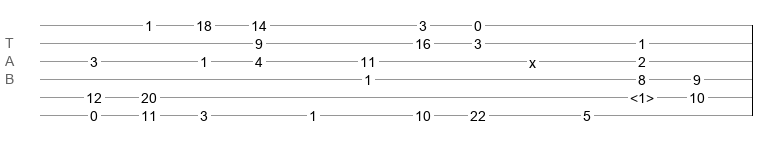0: (90, 108, 98, 118), (474, 18, 482, 28)
1: (145, 18, 153, 28), (200, 54, 208, 64), (309, 108, 317, 118), (364, 72, 372, 82), (638, 36, 646, 46)
10: (415, 108, 431, 118), (689, 90, 705, 100)
11: (141, 108, 157, 118), (360, 54, 376, 64)
12: (86, 90, 102, 100)
14: (251, 18, 267, 28)
16: (415, 36, 431, 46)
18: (196, 18, 212, 28)
2: (638, 54, 646, 64)
20: (141, 90, 157, 100)
22: (470, 108, 486, 118)
3: (90, 54, 98, 64), (200, 108, 208, 118), (419, 18, 427, 28), (474, 36, 482, 46)
4: (255, 54, 263, 64)
5: (583, 108, 591, 118)
8: (638, 72, 646, 82)
9: (255, 36, 263, 46), (693, 72, 701, 82)
harmonic: (630, 90, 654, 100)
x: (529, 55, 536, 63)
